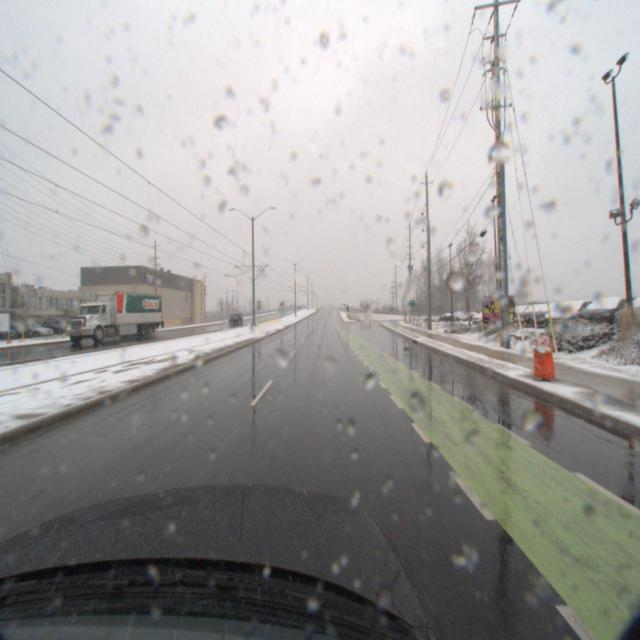Car: (532, 298, 606, 333), (520, 301, 584, 332)
Truck: (55, 288, 163, 345)
